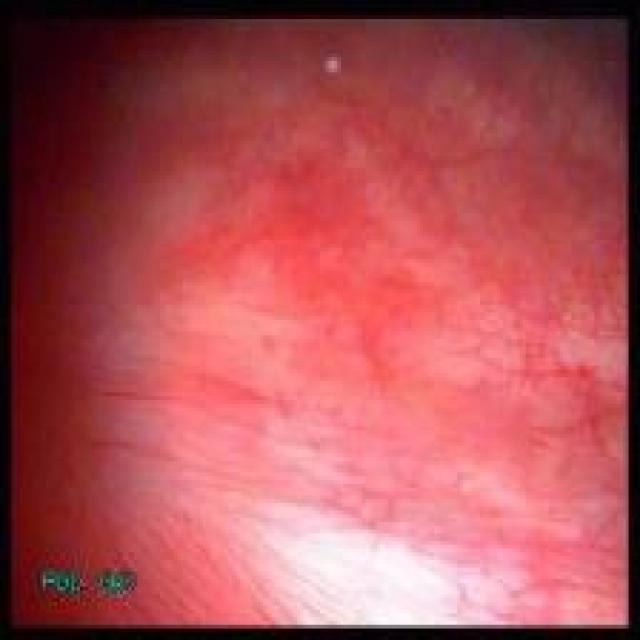color misalignment: (38, 567, 82, 596), (93, 567, 137, 593)
contrast: (10, 38, 172, 182), (10, 182, 63, 618), (533, 20, 625, 153)
saturation: (232, 469, 527, 624)
